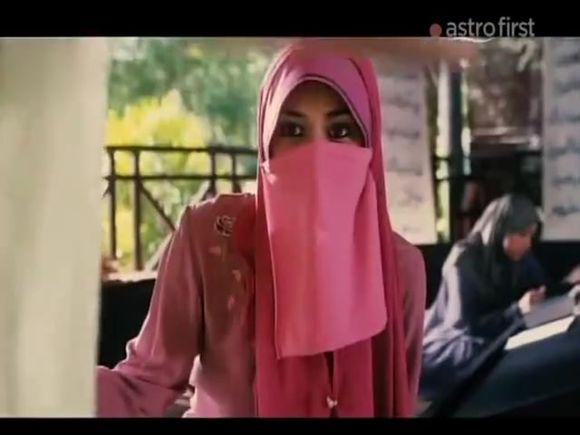NONE: (502, 225, 536, 266)
OK: (274, 99, 376, 201)
